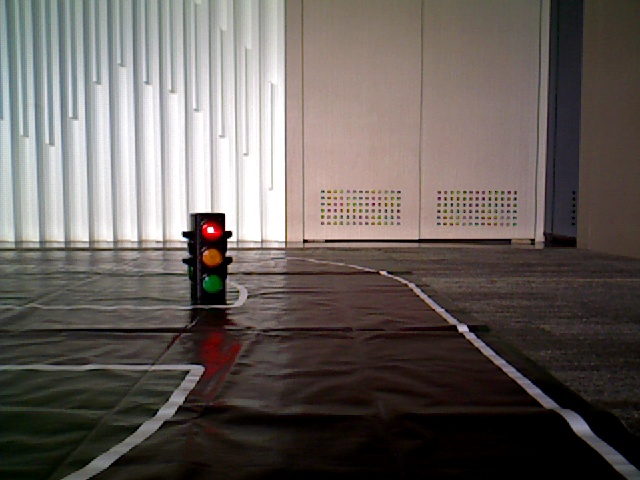red: (194, 217, 226, 295)
